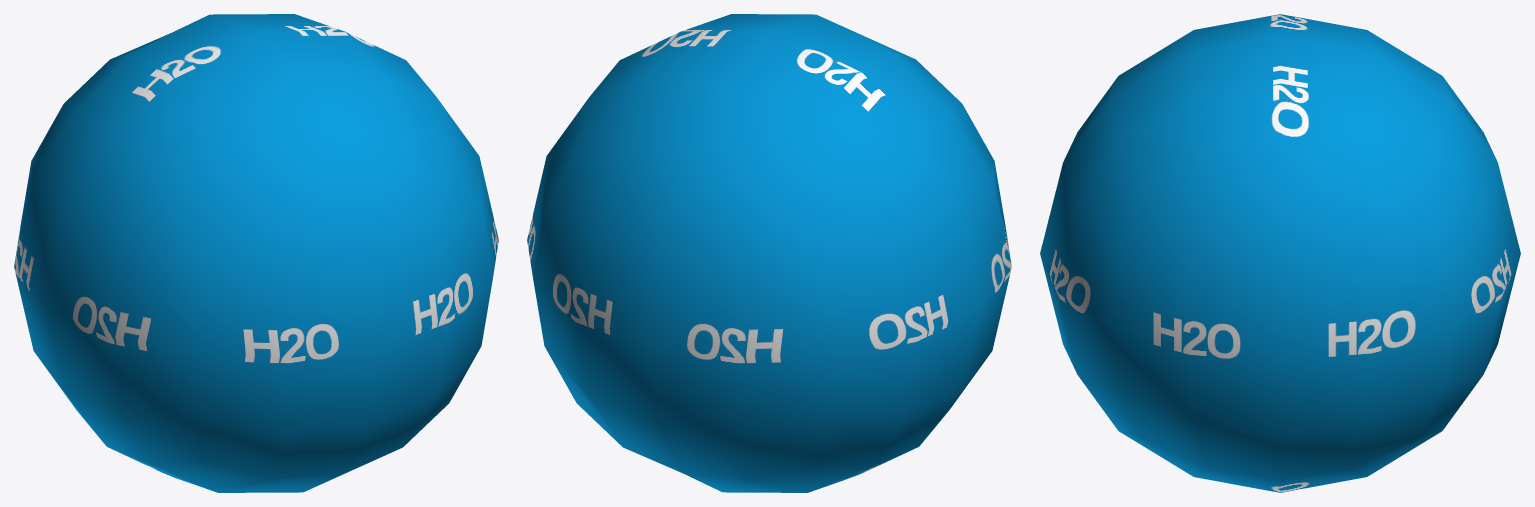
The model's file is CYRCLE3.fbx.
3 renders of one model, left to right at view 1: azimuth 30°, elevation 25°; view 2: azimuth 150°, elevation 25°; view 3: azimuth 270°, elevation 25°, orthographic.
Visible parts, largest first — view 1: Cube; view 2: Cube; view 3: Cube.
Boxes of the visible parts, <box> form: Cube: <box>14,14,498,492</box>; Cube: <box>527,14,1011,492</box>; Cube: <box>1040,14,1520,492</box>.
Bounding box in the file's own units: 346 × 346 × 346.
